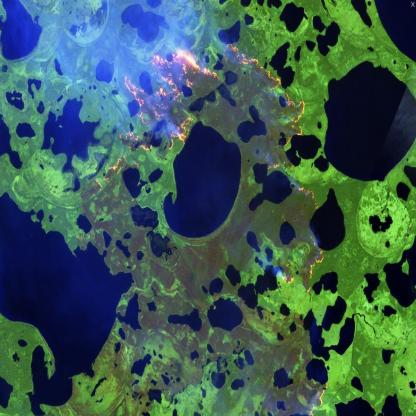fire: (92, 39, 309, 197), (278, 241, 328, 295), (302, 378, 330, 416)
